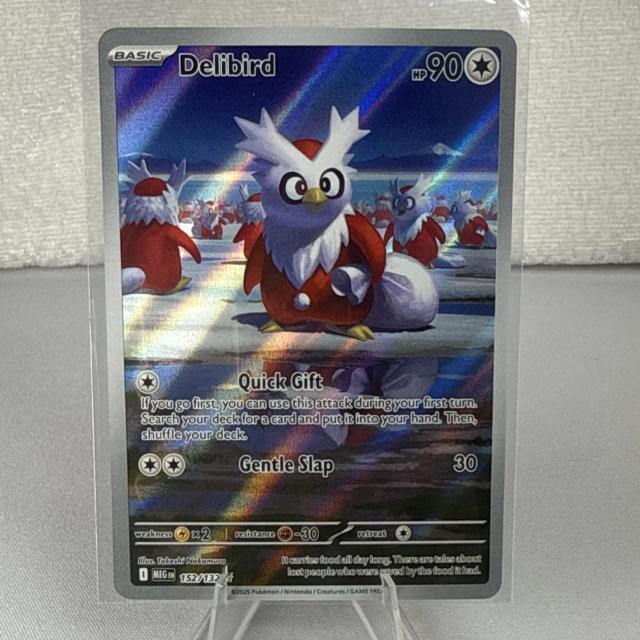Card: (90, 23, 522, 606)
Name: (173, 48, 281, 82)
